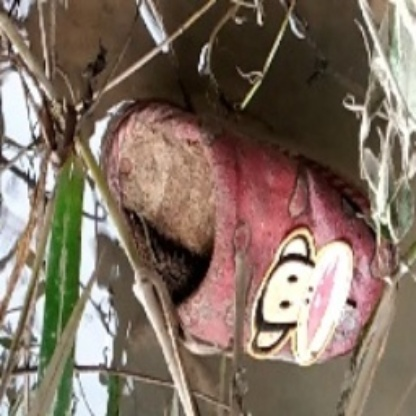leaf: (41, 169, 89, 404)
plastic-garbage: (105, 101, 389, 369)
